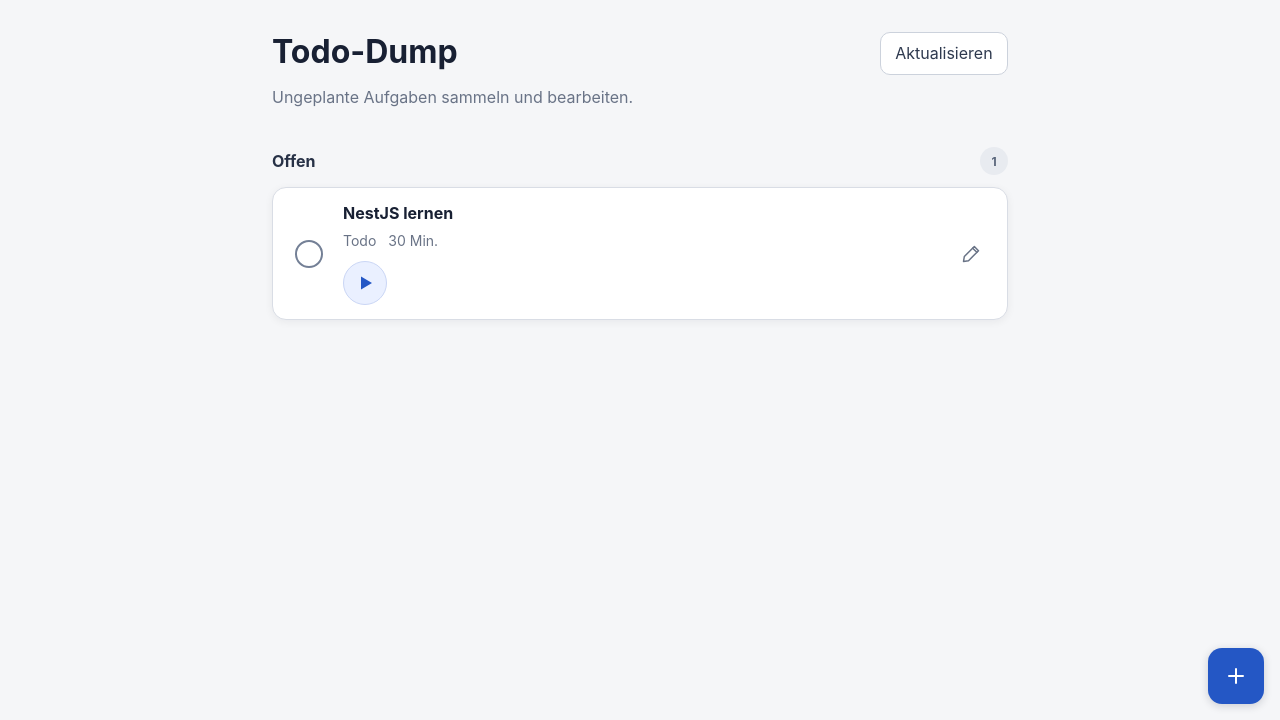
TodoDumpView › prefills the editor with title and duration
Click the button named "NestJS lernen bearbeiten". click: (971, 254)
box: [949,232,993,276]
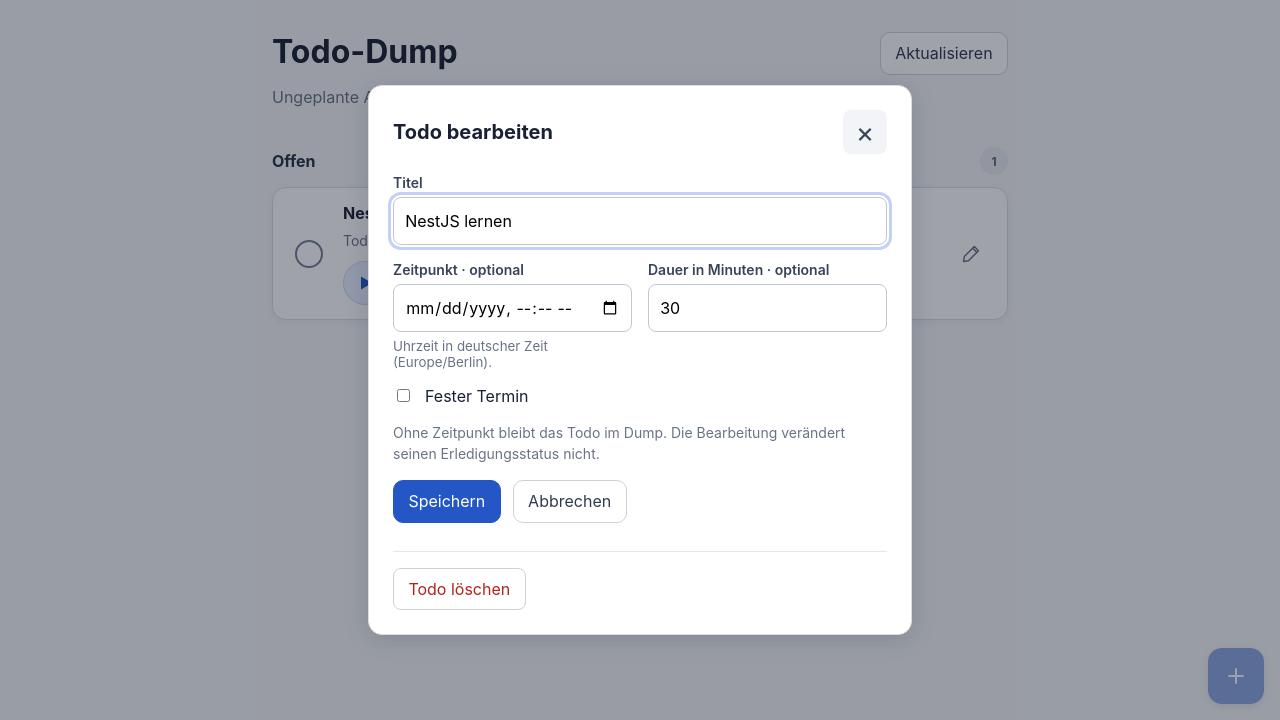
Result: the field named "editTitle" holds "NestJS lernen" at [393,197,887,245]
Result: the number field named "editDuration" holds "30" at [648,284,887,332]
